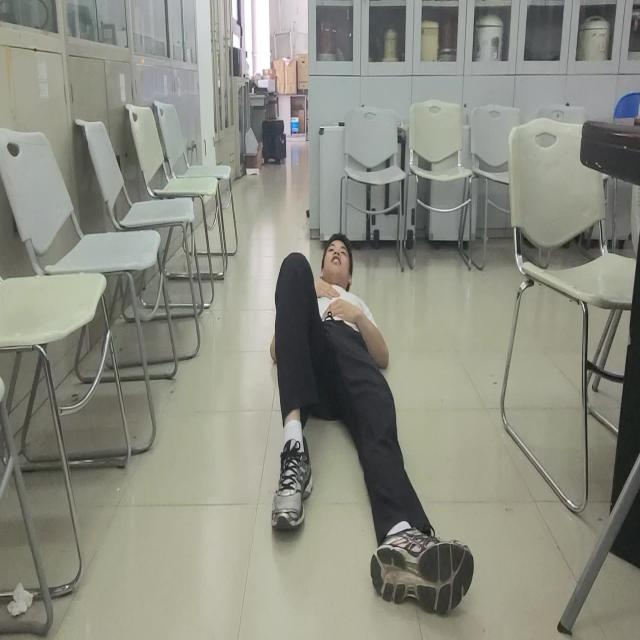Fall-Detected: (268, 230, 474, 618)
